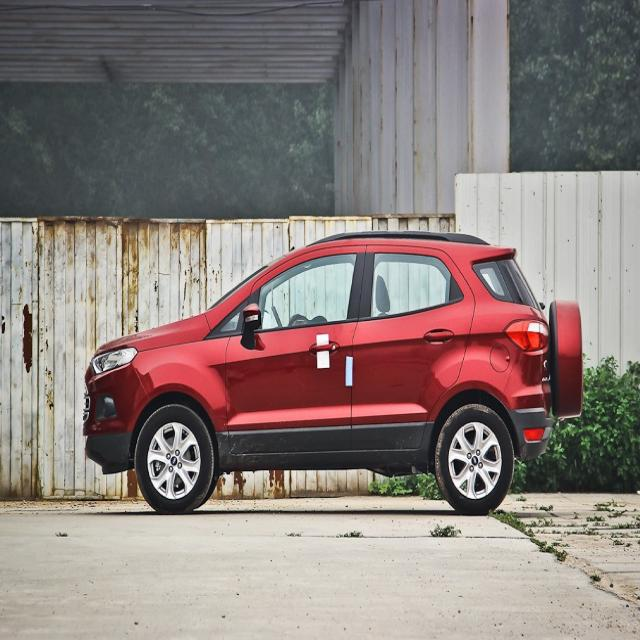back_left_side_light: (501, 316, 550, 355)
door: (360, 244, 489, 449)
front_left_side_door: (223, 241, 368, 458)
front_left_side_light: (90, 345, 139, 376)
front_left_side_mirror: (242, 302, 262, 352)
wheel: (133, 401, 215, 514), (434, 402, 515, 515)
